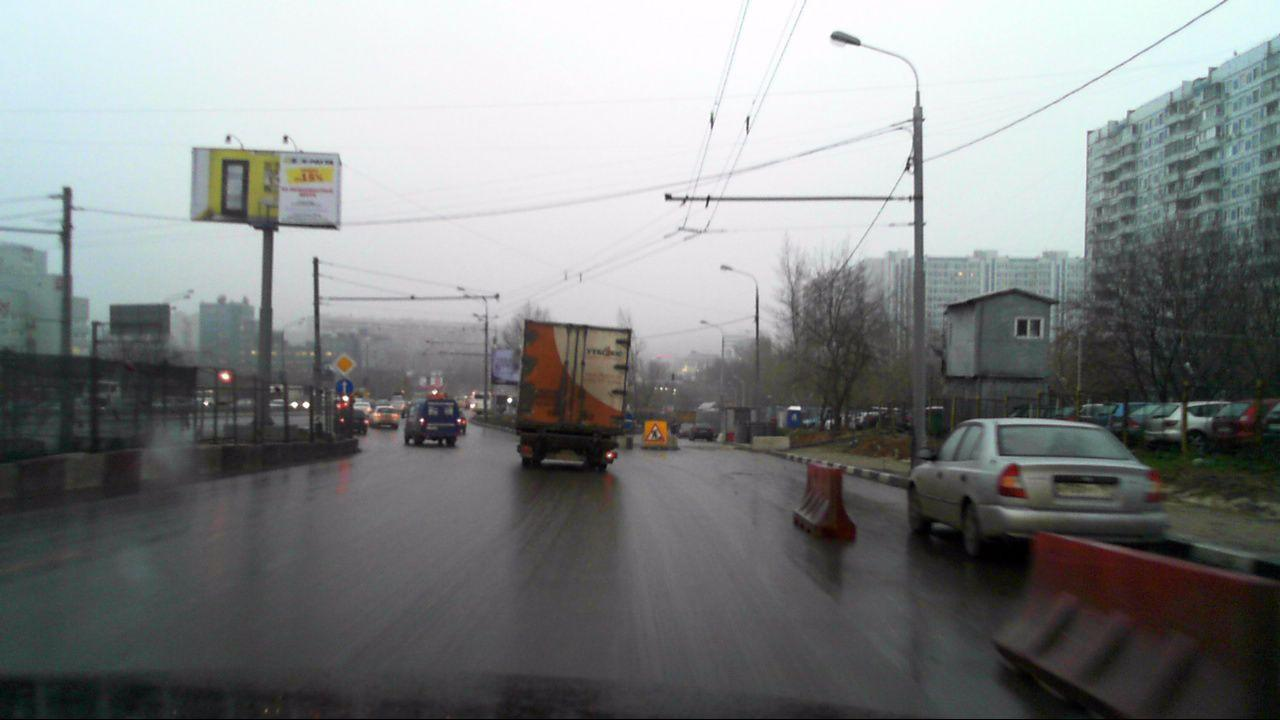1_25: (644, 421, 666, 442)
2_1: (333, 351, 357, 374)
4_1_1: (334, 377, 354, 397)
4_2_2: (621, 410, 635, 431)
